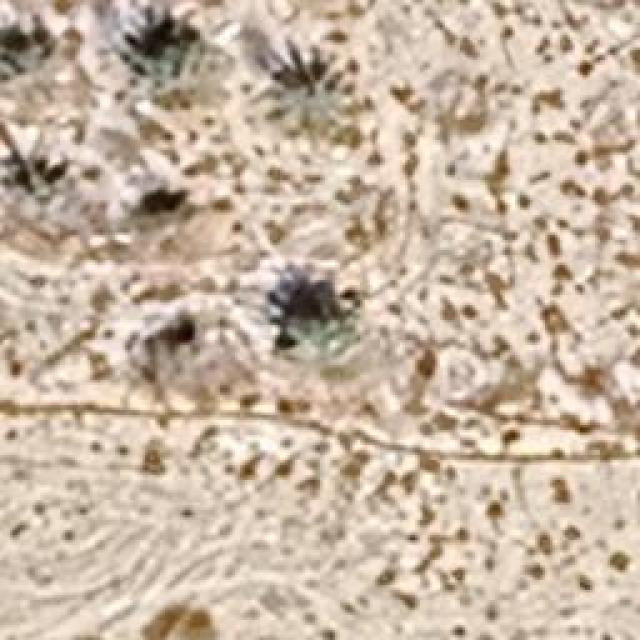PalmTree: (118, 28, 232, 110), (275, 274, 363, 358), (267, 62, 355, 142), (1, 152, 89, 230), (0, 47, 62, 110)
